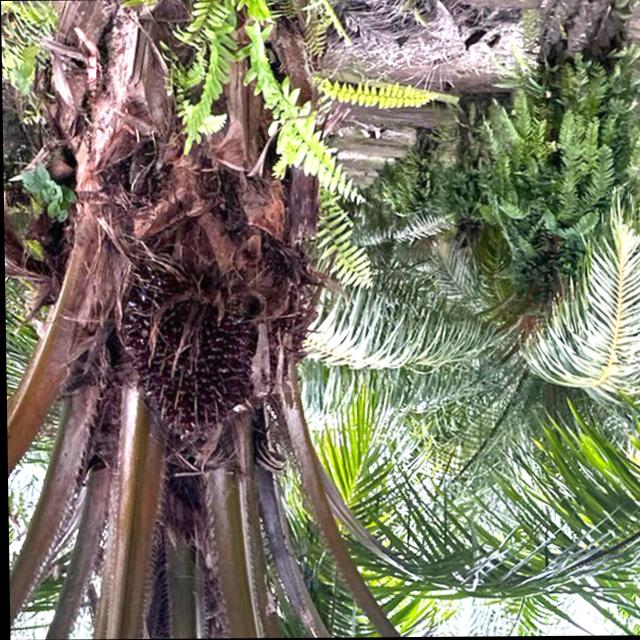ripe: (112, 280, 261, 439)
